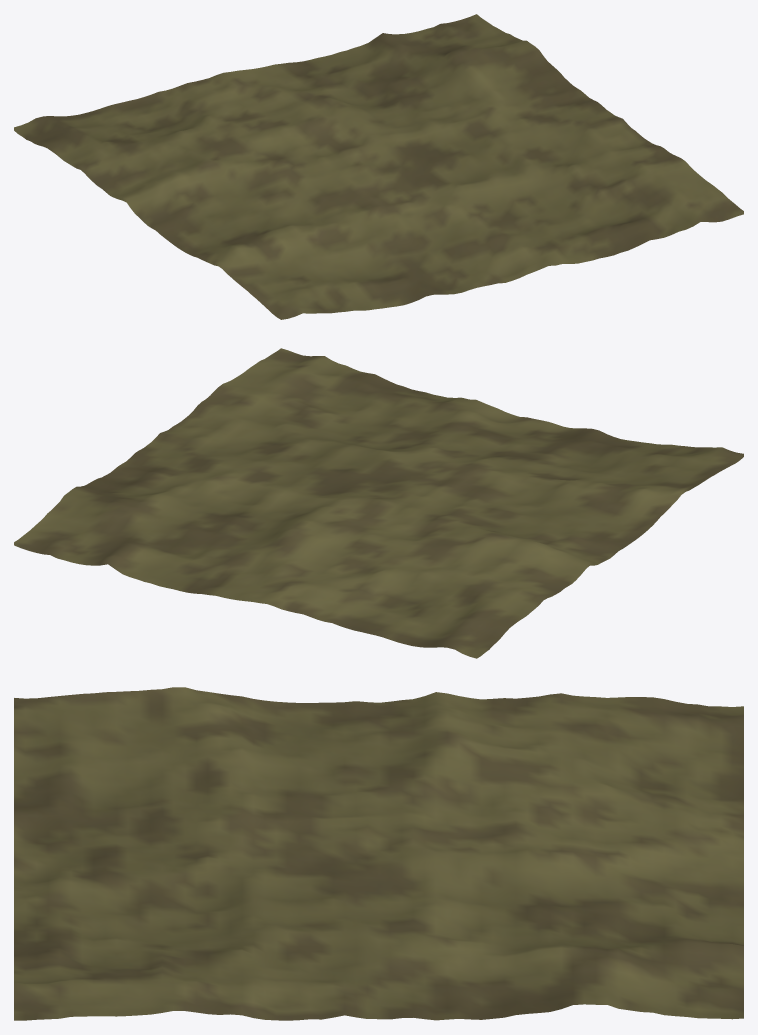
File: land_f_00_09.glb
3 renders of one model, top to bottom at view 1: azimuth 30°, elevation 25°; view 2: azimuth 150°, elevation 25°; view 3: azimuth 270°, elevation 25°, orthographic. The views are drawn at different scales.
Visible parts, largest first — view 1: land_f_00_09; view 2: land_f_00_09; view 3: land_f_00_09.
Part boxes in pixels (x1=…): land_f_00_09: x1=14, y1=14, x2=743, y2=319; land_f_00_09: x1=14, y1=348, x2=743, y2=658; land_f_00_09: x1=14, y1=687, x2=743, y2=1020.
Bounding box in the file's own units: 3840 × 277 × 3840.
